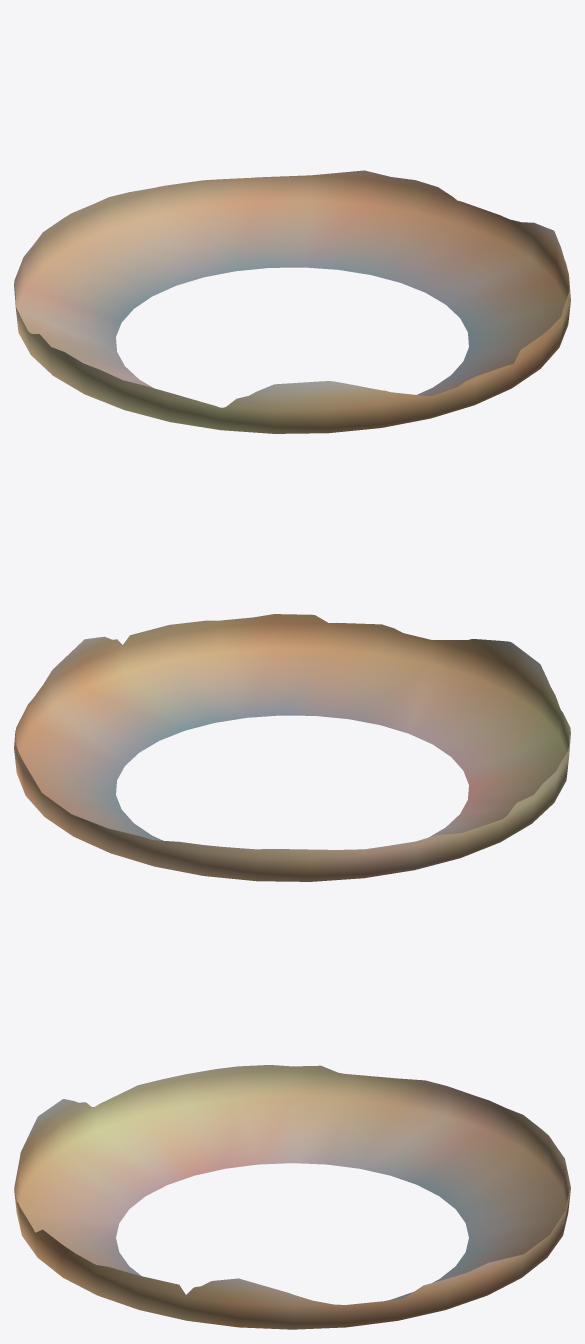
Rendered from skydome.glb.
3 views of the same model, one above another, from view 1: azimuth 30°, elevation 25°; view 2: azimuth 150°, elevation 25°; view 3: azimuth 270°, elevation 25° (orthographic).
Visible parts, largest first — view 1: Sphere; view 2: Sphere; view 3: Sphere.
Boxes of the visible parts, x1,y1,x2,y2 form: Sphere: [14, 170, 570, 433]; Sphere: [14, 614, 570, 881]; Sphere: [14, 1065, 570, 1329].
Bounding box in the file's own units: 58.24 × 34.8 × 58.24.
